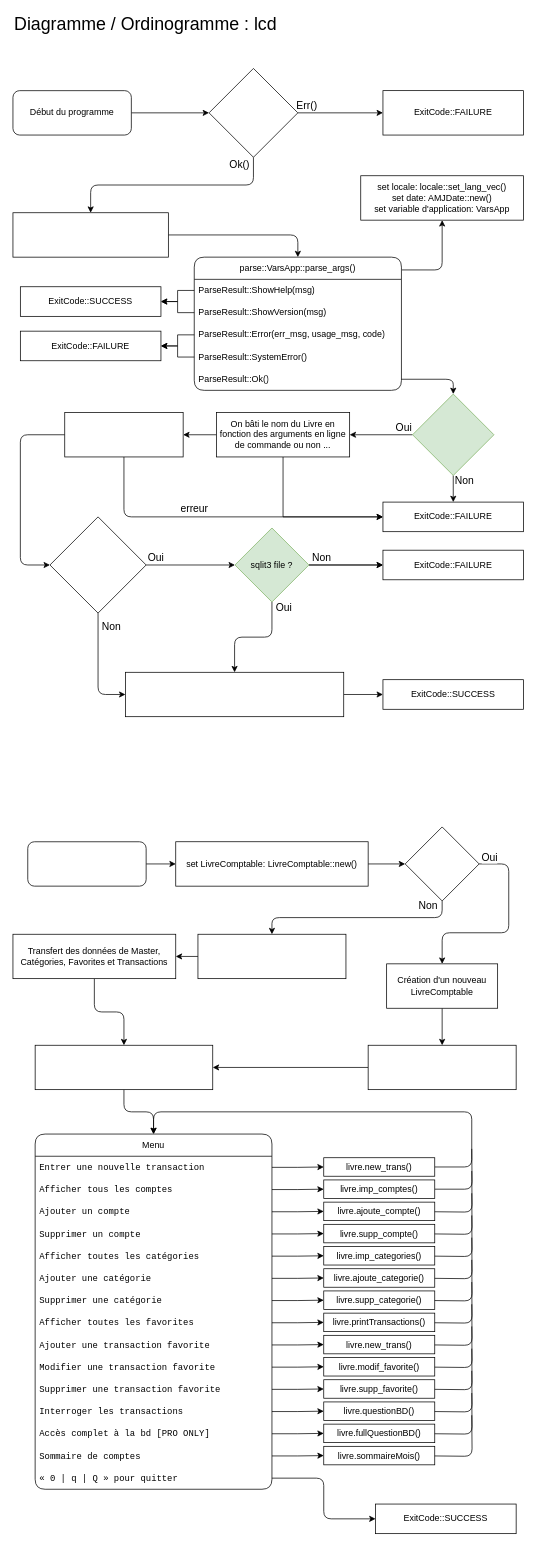
Some shapes in this 537 by 1547 pixel diagram are drawn without their labels. Here are the shapes that lost their labels. From the top down, the centre of each, then its label:
point (253, 112): exec_full_path ?
point (90, 234): création: exec_name - exec_path
point (123, 434): cd path en tenant compte des arguments en ligne de commande ou non ...
point (453, 434): Texte 112 cols ?
point (97, 564): livre_name existe ?
point (234, 694): LivreComptable::open_db()
point (86, 863): open_db()
point (441, 863): Nouveau ?
point (271, 956): Overture de la base de donnée
point (123, 1067): menus::affiche_menu(var_app, &mut lc)
point (441, 1067): Création de Master(comptes) et de Catégories à partir des inputs
